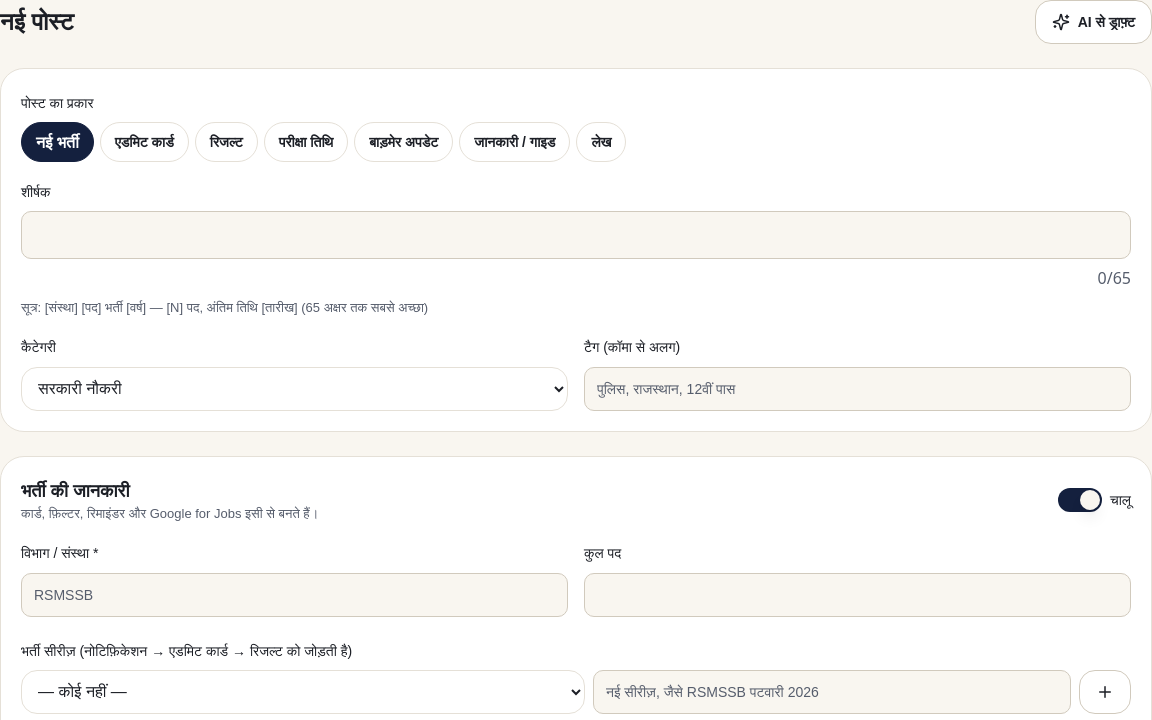
it: Post editor › scheduling requires a future time
Type "शेड्यूल पोस्ट" into the field labelled "शीर्षक" at (576, 235), box [21,211,1131,259]
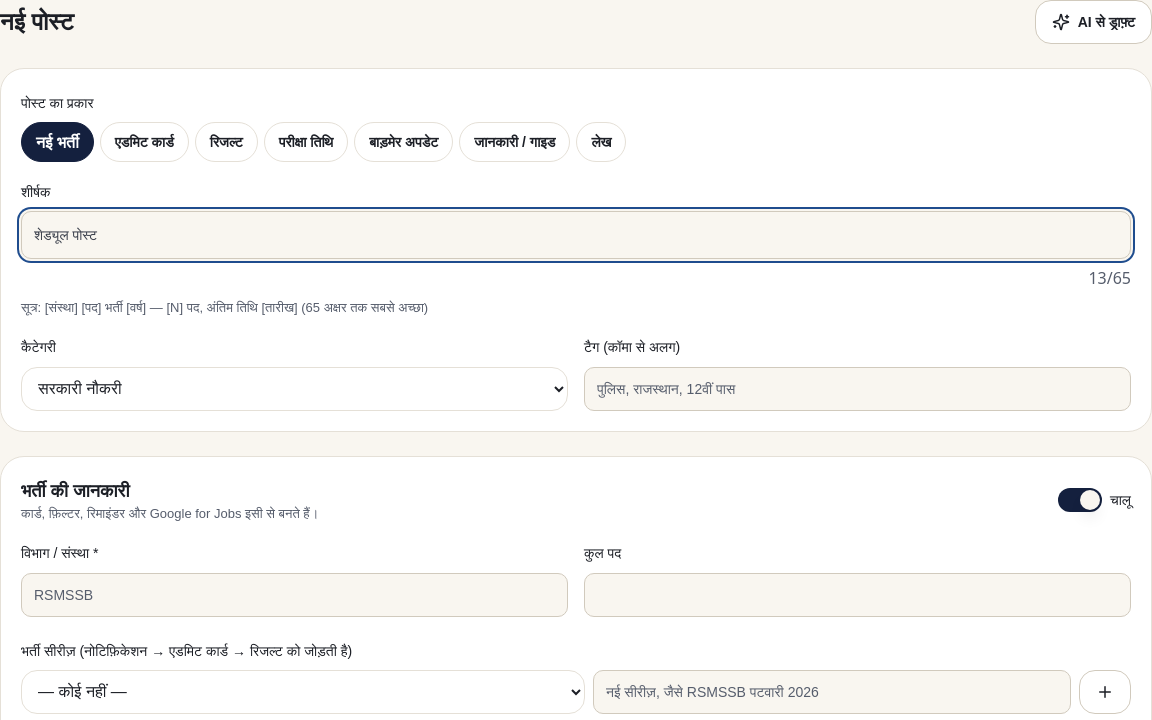
Click the switch at (1080, 500), box [1058,488,1102,512]
(page scrolled)
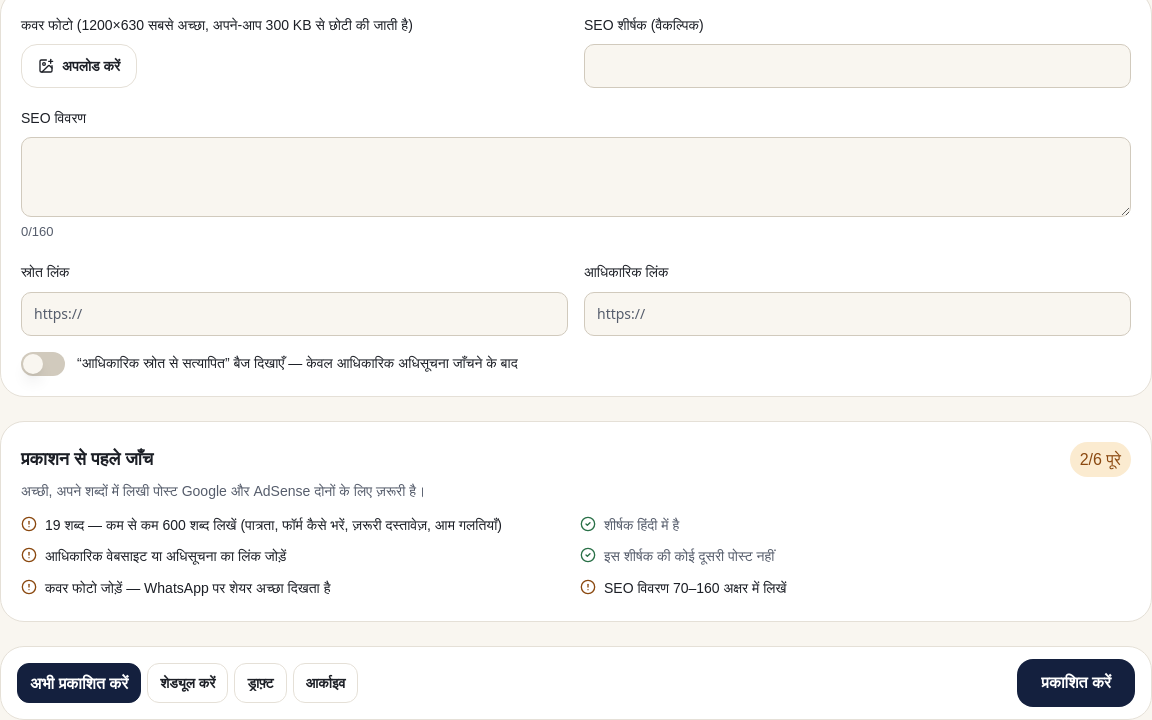
Click the button "शेड्यूल करें" at (188, 683), box [147,663,228,703]
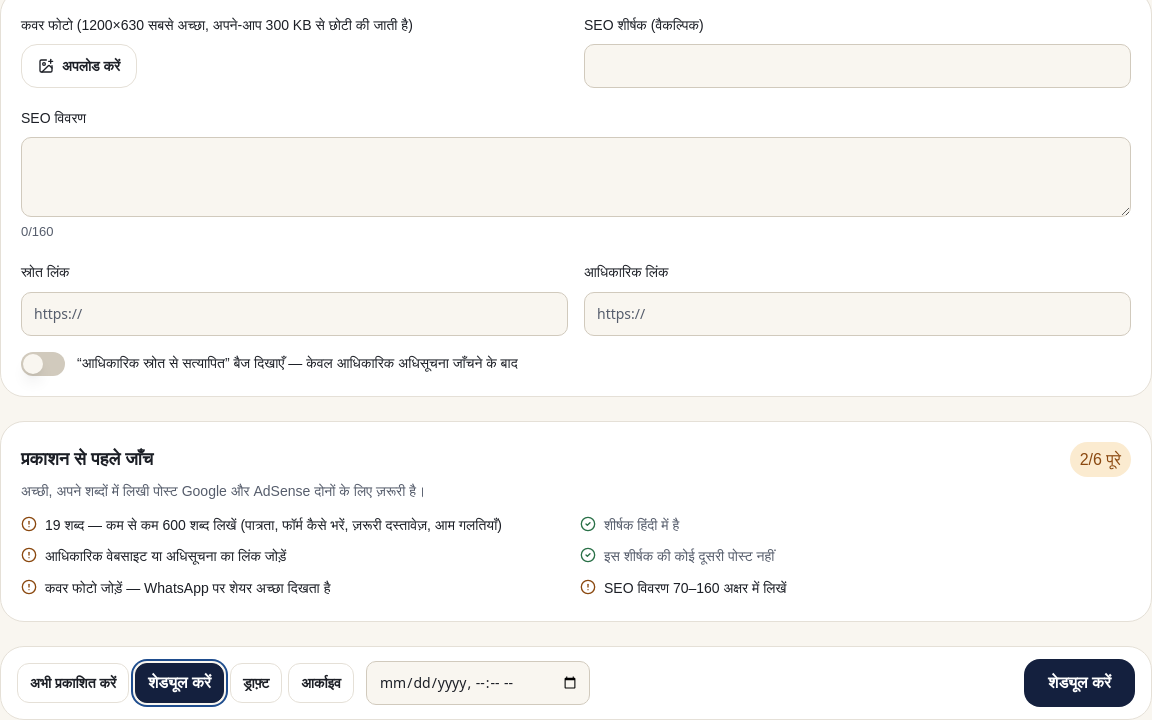
Click the 2nd button "शेड्यूल करें" at (1080, 683), box [1024,659,1135,707]
(page scrolled)
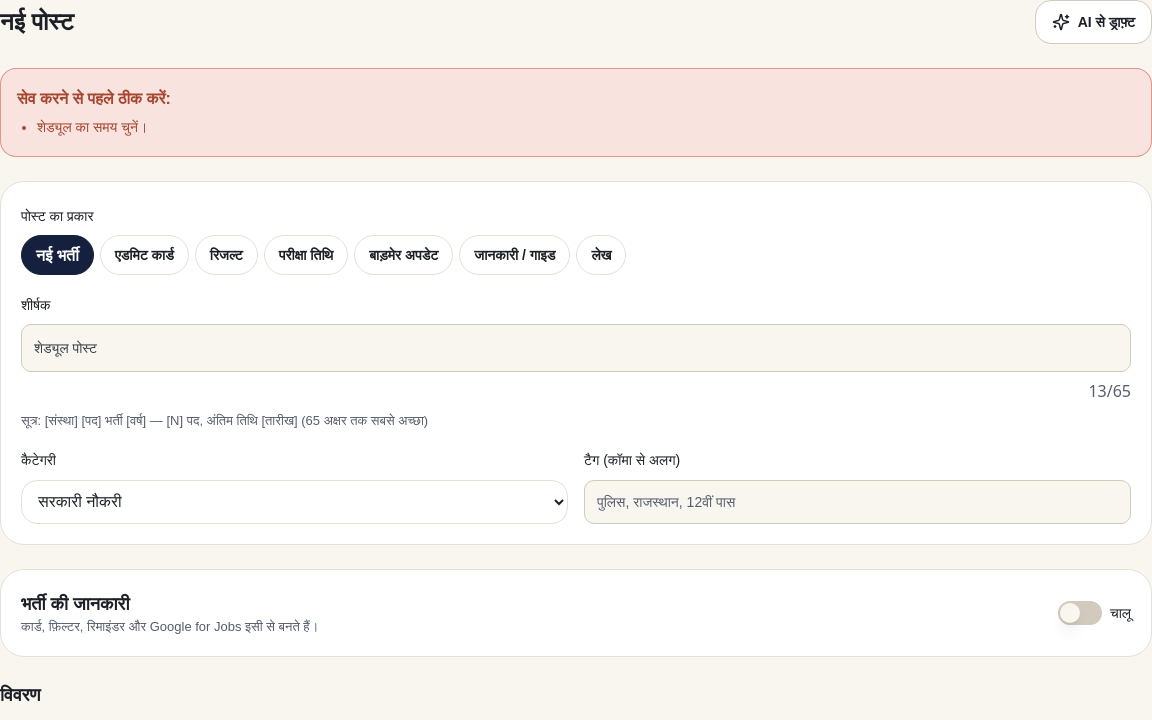
Check: the message shows "शेड्यूल का समय चुनें।", box [37,119,147,135]
